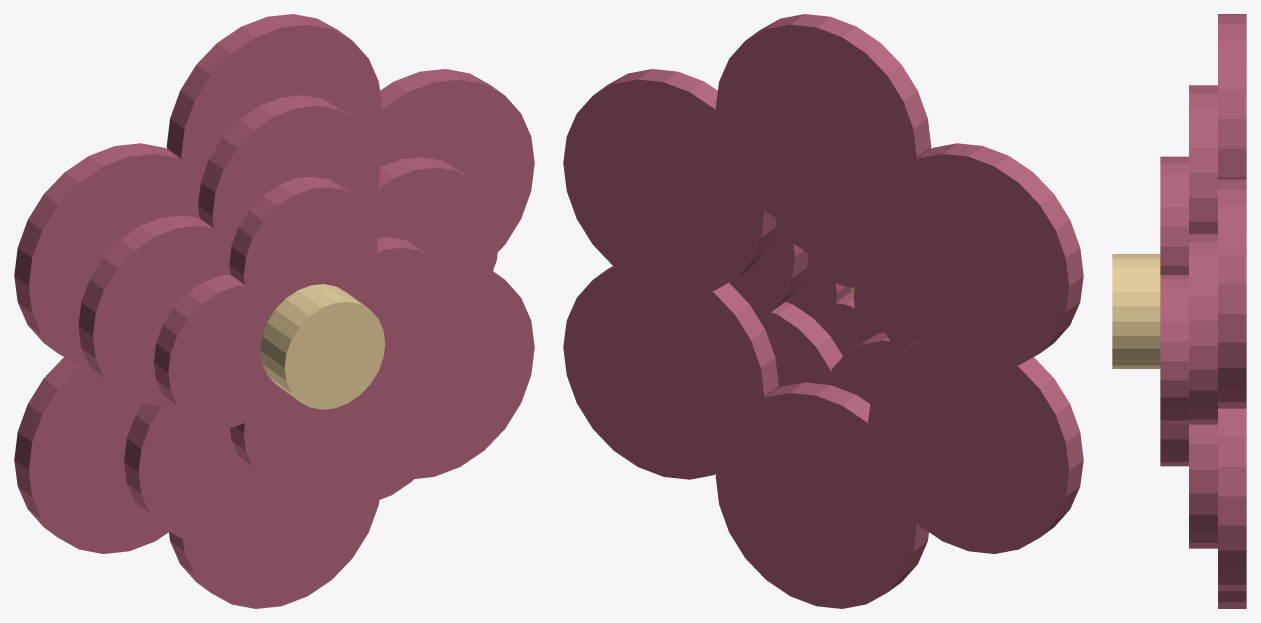
The model's file is ACC_Rose_Brooch.glb.
The picture shows the model from 3 angles, left to right: view 1: azimuth 30°, elevation 25°; view 2: azimuth 150°, elevation 25°; view 3: azimuth 270°, elevation 25°; orthographic projection.
Visible parts, largest first — view 1: ACC_Rose_Brooch_6, ACC_Rose_Brooch_5, ACC_Rose_Brooch_1, ACC_Rose_Brooch_11, ACC_Rose_Brooch_2, ACC_Rose_Brooch_7, ACC_Rose_Brooch_10, ACC_Rose_Brooch_4, ACC_Rose_Brooch_12, ACC_Rose_Brooch_15, ACC_Rose_Brooch_8, ACC_Rose_Brooch_3 (+4 smaller); view 2: ACC_Rose_Brooch_1, ACC_Rose_Brooch_6, ACC_Rose_Brooch_5, ACC_Rose_Brooch_4, ACC_Rose_Brooch_3, ACC_Rose_Brooch_2, ACC_Rose_Brooch_9, ACC_Rose_Brooch_8, ACC_Rose_Brooch_10, ACC_Rose_Brooch_13, ACC_Rose_Brooch_14, ACC_Rose_Brooch_7 (+2 smaller); view 3: ACC_Rose_Brooch_2, ACC_Rose_Brooch_16, ACC_Rose_Brooch_8, ACC_Rose_Brooch_3, ACC_Rose_Brooch_1, ACC_Rose_Brooch_13, ACC_Rose_Brooch_7, ACC_Rose_Brooch_9, ACC_Rose_Brooch_12, ACC_Rose_Brooch_14, ACC_Rose_Brooch_4.
Boxes of the visible parts, box(x1,y1,x2,y2) form: ACC_Rose_Brooch_6: box(14, 143, 203, 367); ACC_Rose_Brooch_5: box(14, 357, 168, 553); ACC_Rose_Brooch_1: box(166, 14, 382, 210); ACC_Rose_Brooch_11: box(78, 215, 232, 405); ACC_Rose_Brooch_2: box(364, 69, 534, 251); ACC_Rose_Brooch_7: box(198, 95, 379, 263); ACC_Rose_Brooch_10: box(124, 400, 288, 541); ACC_Rose_Brooch_4: box(169, 488, 379, 608); ACC_Rose_Brooch_12: box(229, 176, 377, 321); ACC_Rose_Brooch_15: box(154, 274, 274, 428); ACC_Rose_Brooch_8: box(363, 157, 499, 329); ACC_Rose_Brooch_3: box(415, 271, 534, 478); ACC_Rose_Brooch_1: box(715, 14, 931, 240); ACC_Rose_Brooch_6: box(868, 143, 1083, 368); ACC_Rose_Brooch_5: box(868, 338, 1083, 553); ACC_Rose_Brooch_4: box(715, 382, 928, 608); ACC_Rose_Brooch_3: box(563, 263, 778, 479); ACC_Rose_Brooch_2: box(563, 69, 776, 294); ACC_Rose_Brooch_9: box(759, 301, 842, 387); ACC_Rose_Brooch_8: box(729, 219, 808, 318); ACC_Rose_Brooch_10: box(831, 332, 909, 403); ACC_Rose_Brooch_13: box(786, 256, 850, 329); ACC_Rose_Brooch_14: box(821, 292, 884, 356); ACC_Rose_Brooch_7: box(775, 219, 870, 264); ACC_Rose_Brooch_2: box(1218, 179, 1246, 408); ACC_Rose_Brooch_16: box(1112, 254, 1160, 368); ACC_Rose_Brooch_8: box(1189, 233, 1217, 424); ACC_Rose_Brooch_3: box(1218, 408, 1246, 591); ACC_Rose_Brooch_1: box(1218, 14, 1246, 178); ACC_Rose_Brooch_13: box(1160, 275, 1188, 424); ACC_Rose_Brooch_7: box(1189, 85, 1217, 233); ACC_Rose_Brooch_9: box(1189, 424, 1217, 548); ACC_Rose_Brooch_12: box(1160, 156, 1188, 274); ACC_Rose_Brooch_14: box(1160, 424, 1188, 466); ACC_Rose_Brooch_4: box(1218, 591, 1246, 608).
Bounding box in the file's own units: 0.0604 × 0.066 × 0.014.
